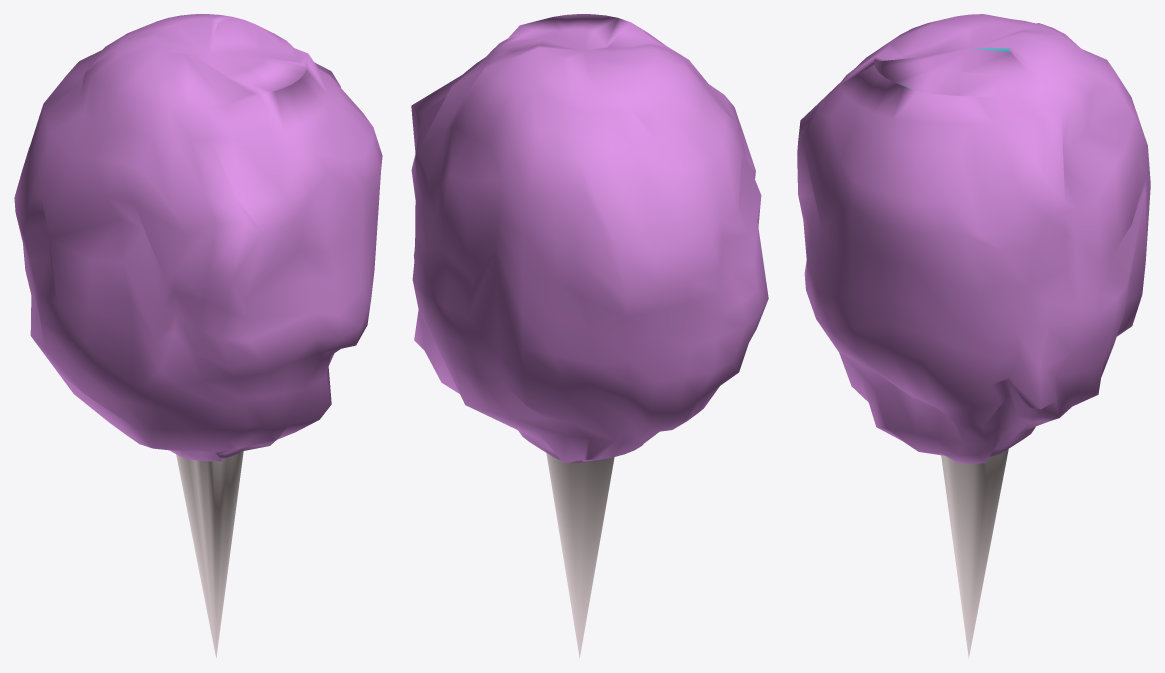
Rendered from cotton conday blue version .fbx.
The picture shows the model from 3 angles, left to right: view 1: azimuth 30°, elevation 25°; view 2: azimuth 150°, elevation 25°; view 3: azimuth 270°, elevation 25°; orthographic projection.
Visible parts, largest first — view 1: Pink; view 2: Pink; view 3: Pink.
Boxes of the visible parts, x1,y1,x2,y2 form: Pink: [14, 14, 382, 657]; Pink: [411, 14, 768, 658]; Pink: [797, 14, 1150, 658].
Size of the model in its own units: 202 by 380 by 196.
